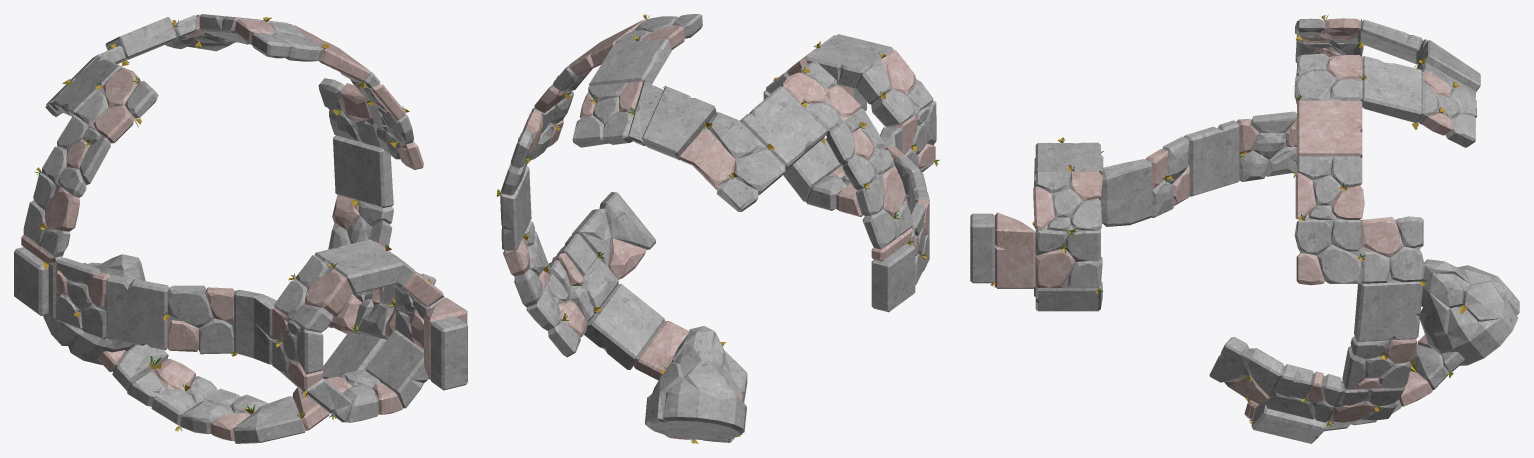
Rendered from OnimasuPlanetPartsGoal.dae.
3 renders of one model, left to right at view 1: azimuth 30°, elevation 25°; view 2: azimuth 150°, elevation 25°; view 3: azimuth 270°, elevation 25°, orthographic. The views are drawn at different scales.
Parts seen in each view (by area): view 1: m1, m2, m0; view 2: m1, m2, m0; view 3: m1, m2, m0.
Part boxes in pixels (<box>): m1: <box>14,14,467,443</box>; m2: <box>21,14,467,441</box>; m0: <box>34,17,431,431</box>; m1: <box>500,14,936,442</box>; m2: <box>503,19,935,439</box>; m0: <box>496,14,939,443</box>; m1: <box>970,18,1519,443</box>; m2: <box>995,18,1453,422</box>; m0: <box>990,15,1467,426</box>.
Size of the model in its own units: 5151 by 5134 by 6730.
Materials: 3 (3 with a texture image).
